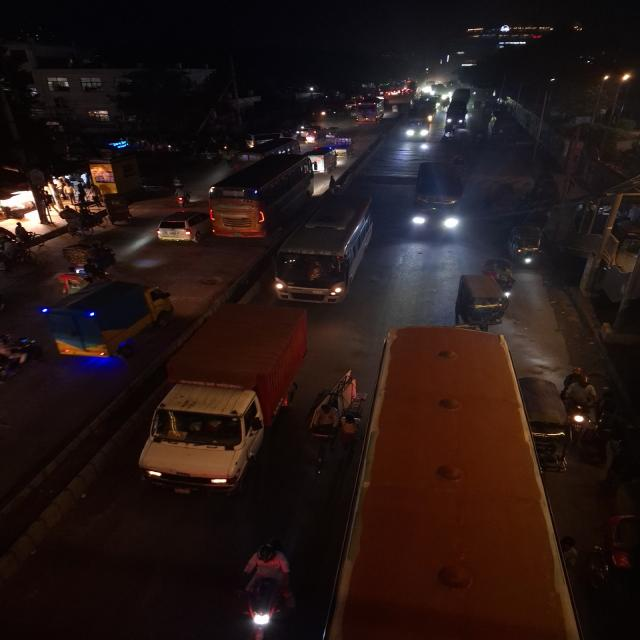bus: (336, 323, 566, 640), (272, 193, 378, 306), (206, 153, 316, 240), (406, 156, 470, 243), (405, 97, 436, 143), (444, 87, 473, 133), (352, 102, 384, 125)
car: (154, 208, 212, 245)
motorcycle: (231, 534, 302, 640), (558, 365, 606, 439), (0, 332, 37, 390), (168, 183, 194, 207)
pickup_van: (449, 271, 513, 327), (330, 132, 356, 160)
rickshaw: (56, 241, 120, 283), (504, 221, 552, 271), (55, 204, 113, 237), (481, 256, 517, 290)
truck: (128, 304, 328, 500), (47, 277, 175, 362), (310, 147, 338, 175)
